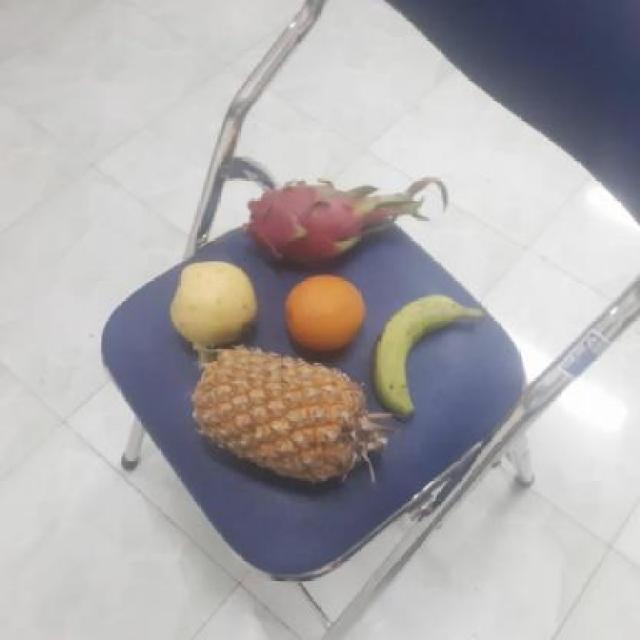banana: (368, 296, 469, 418)
dragon fruit: (246, 178, 389, 272)
oren: (277, 273, 368, 358)
pear: (168, 261, 263, 345)
pineapple: (198, 348, 374, 479)
